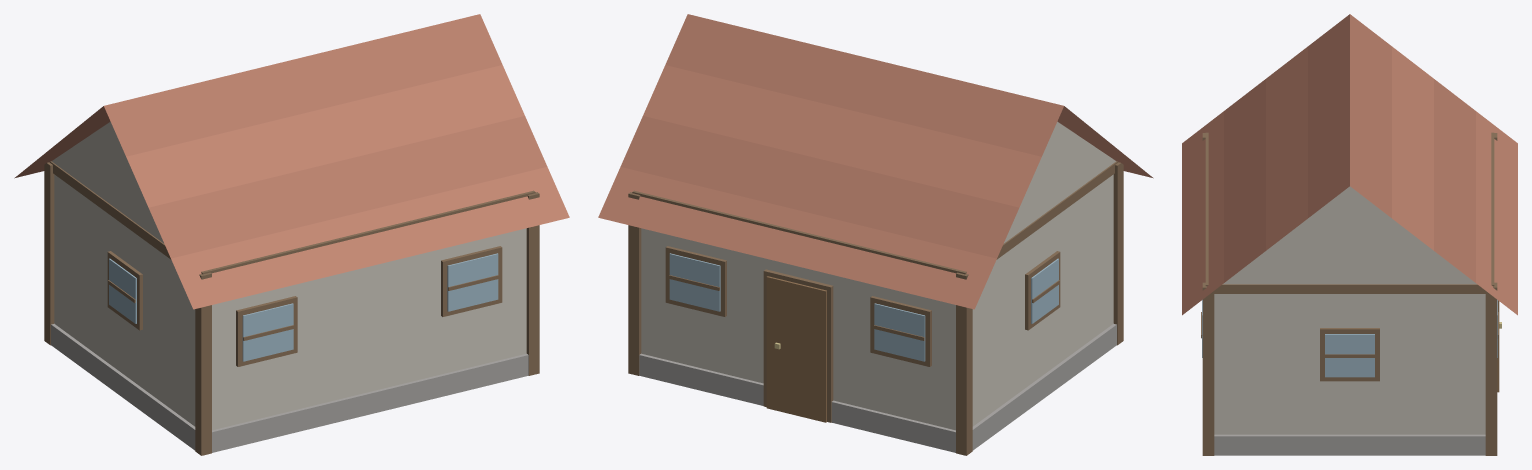
Rendered from house_cottage.glb.
3 renders of one model, left to right at view 1: azimuth 30°, elevation 25°; view 2: azimuth 150°, elevation 25°; view 3: azimuth 270°, elevation 25°, orthographic. The views are drawn at different scales.
Visible parts, largest first — view 1: house_cottage; view 2: house_cottage; view 3: house_cottage.
Boxes of the visible parts, x1,y1,x2,y2 form: house_cottage: [14, 14, 569, 455]; house_cottage: [598, 14, 1153, 455]; house_cottage: [1182, 14, 1517, 455].
Size of the model in its own units: 5.7 by 4.3 by 4.7.
